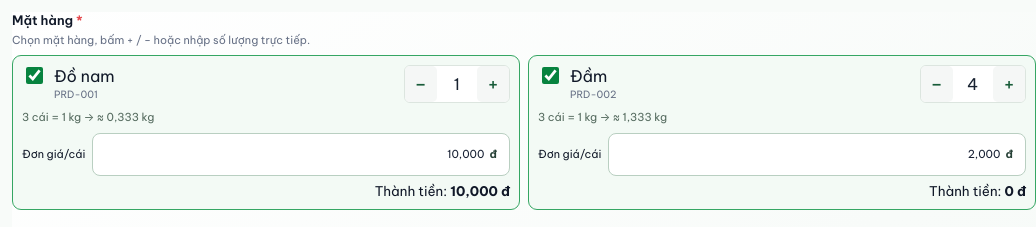
Test: OrderItemSelector quantity steppers › retains price and metadata but removes stale derived amounts after a step
Step 1. Click the button "+" in the row of "Đồ nam" → point(493, 84), box [477,66,509,102]
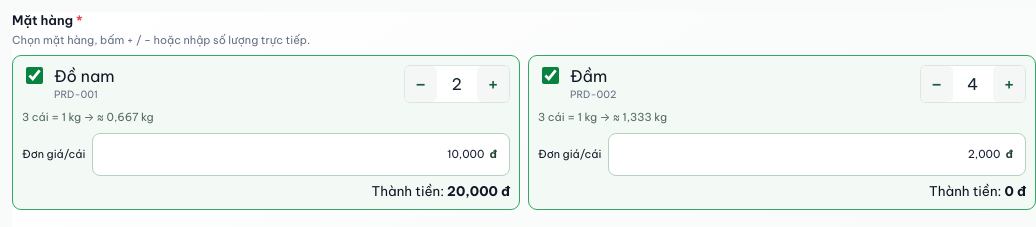
Check: the text "20,000 đ" is shown, box [447,183,510,200]
